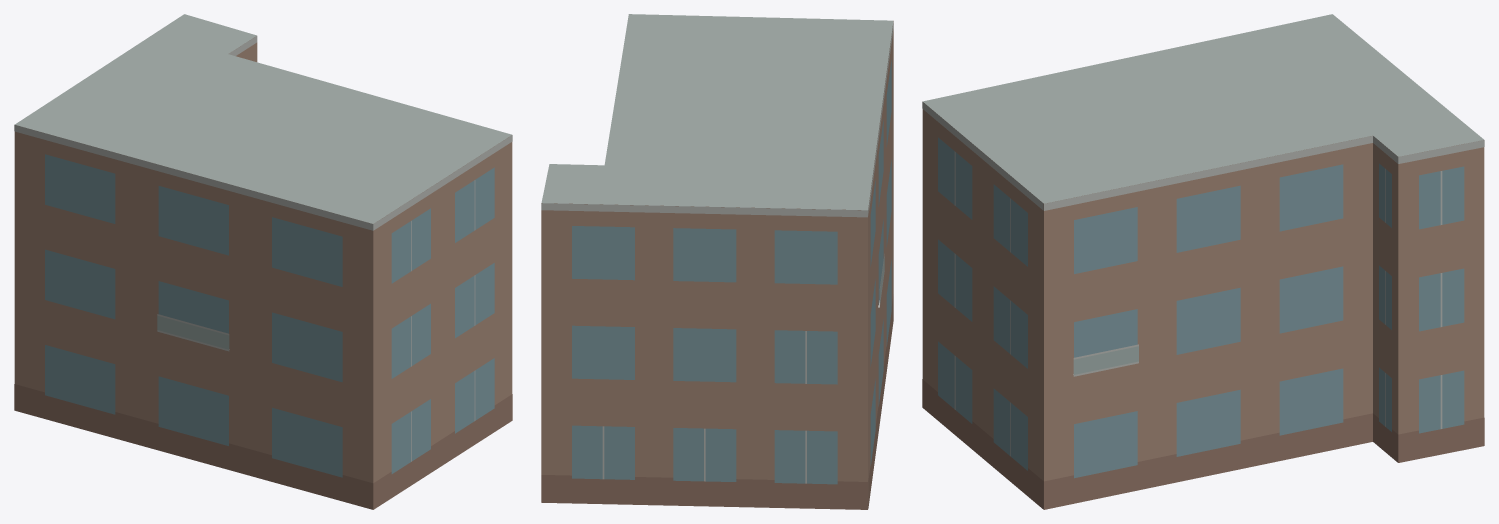
File: survey-upis-32839728.glb
The picture shows the model from 3 angles, left to right: view 1: azimuth 30°, elevation 25°; view 2: azimuth 150°, elevation 25°; view 3: azimuth 270°, elevation 25°; orthographic projection. The views are drawn at different scales.
Visible parts, largest first — view 1: survey-upis-32839728.tmp; view 2: survey-upis-32839728.tmp; view 3: survey-upis-32839728.tmp.
Boxes of the visible parts, bbox=[...] form: survey-upis-32839728.tmp: bbox=[14, 14, 512, 509]; survey-upis-32839728.tmp: bbox=[541, 14, 893, 509]; survey-upis-32839728.tmp: bbox=[922, 14, 1484, 509].
Size of the model in its own units: 13.65 by 10.26 by 17.08.
